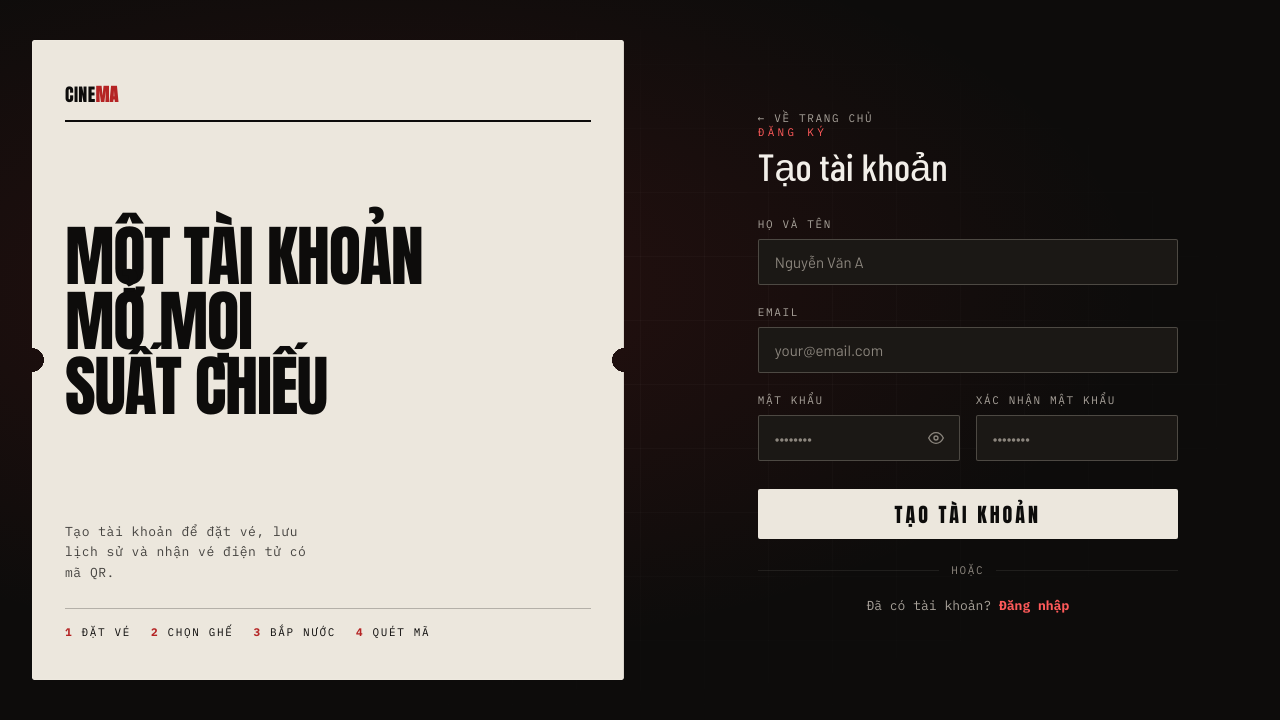
Scenario: Register › mật khẩu dưới 6 ký tự thì báo lỗi, không gọi API
This screenshot has width=1280, height=720.
expect the button "Tạo tài khoản" is shown: met, box [758,489,1178,539]
Type "Người Mới" into the field labelled "Họ và tên" at (968, 262), box [758,239,1178,285]
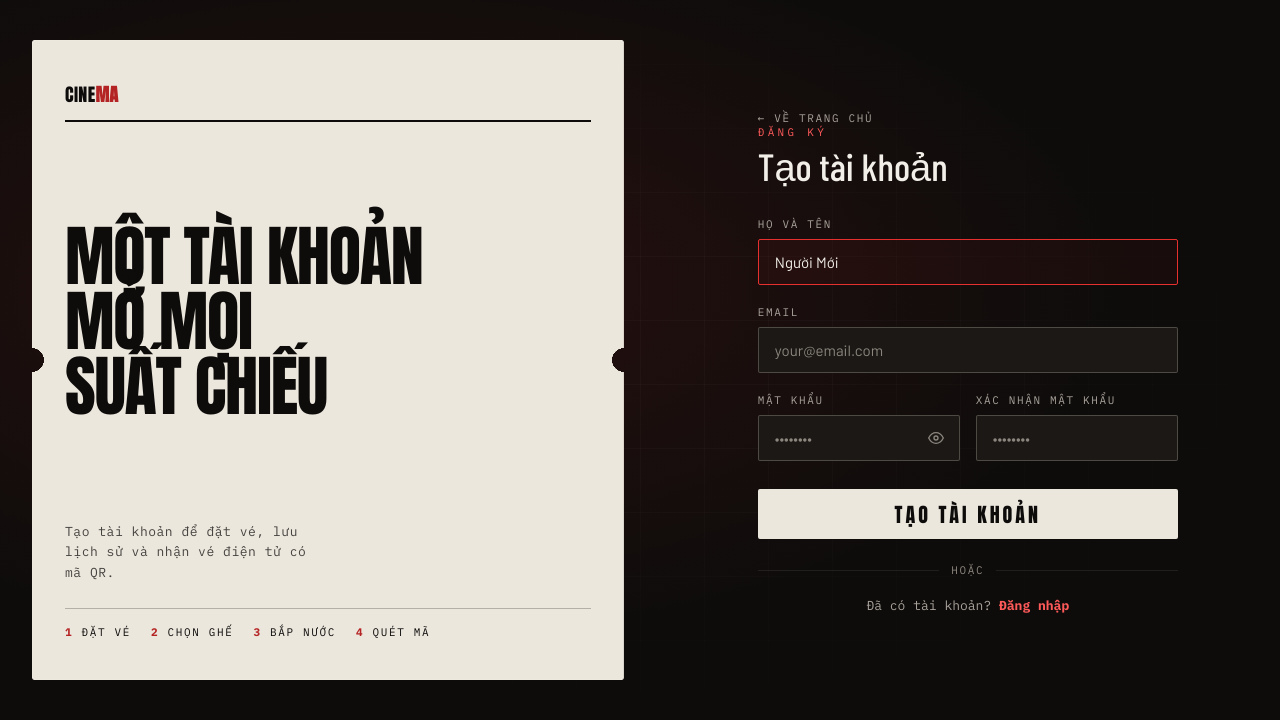
Type "moi@cinema.vn" into the field labelled "Email" at (968, 350), box [758,327,1178,373]
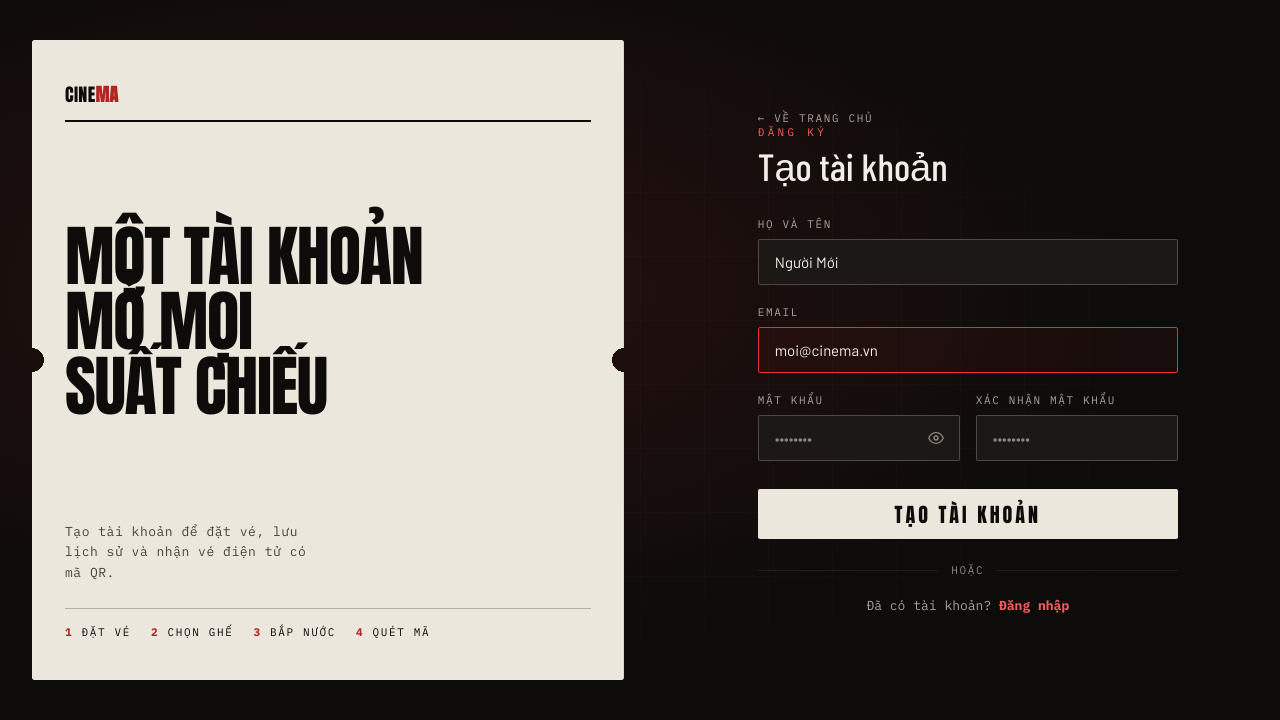
Type "123" into the password field labelled "Mật khẩu" at (859, 438), box [758,415,960,461]
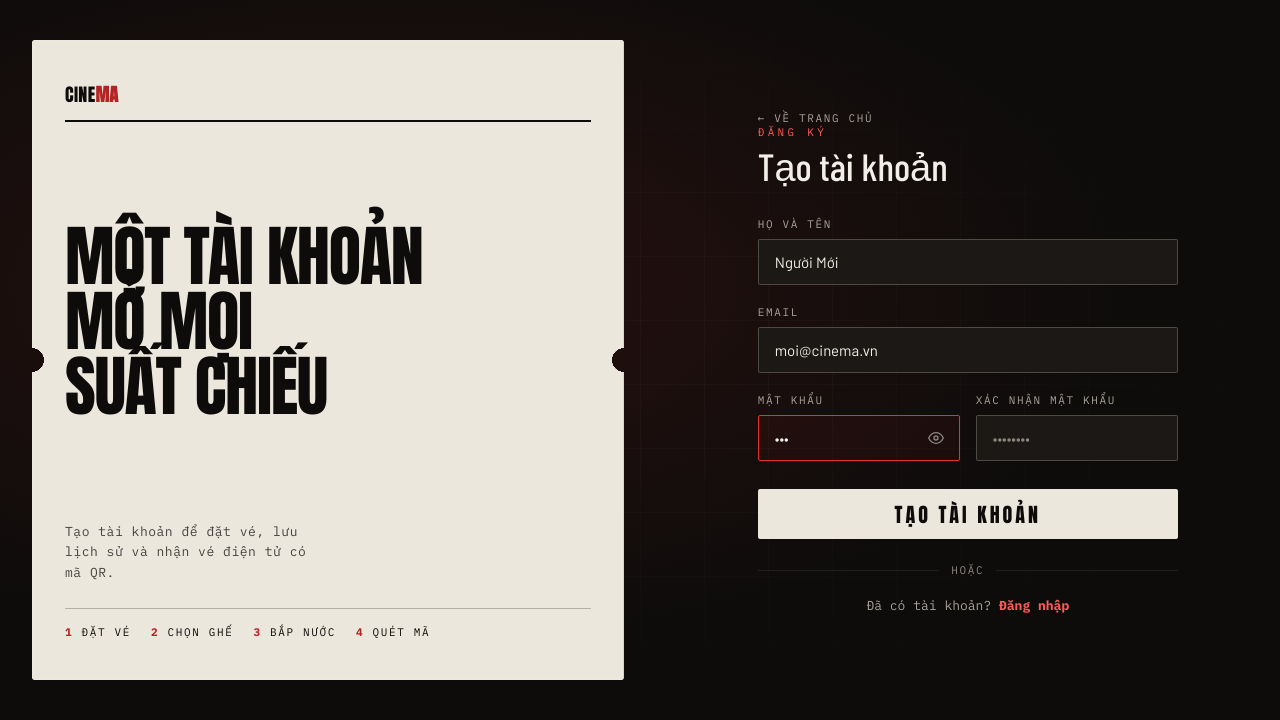
Type "123" into the password field labelled "Xác nhận mật khẩu" at (1077, 438), box [976,415,1178,461]
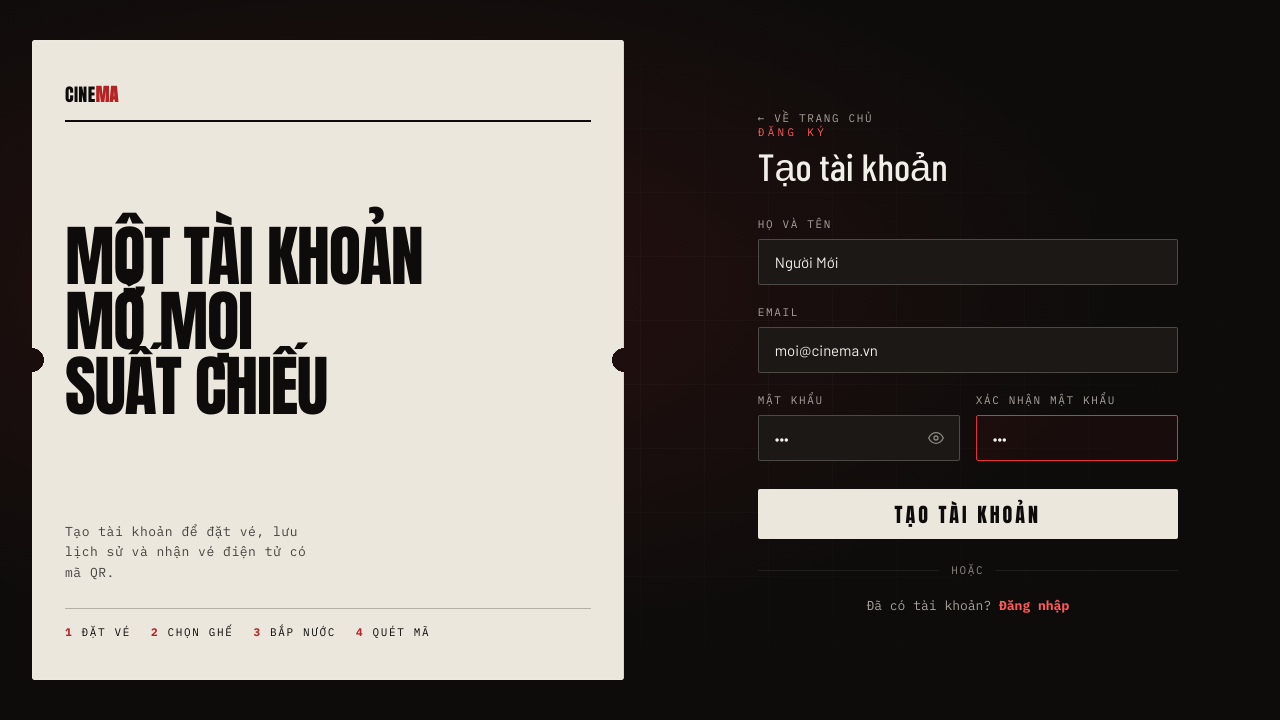
Click the button "Tạo tài khoản" at (968, 514), box [758,489,1178,539]
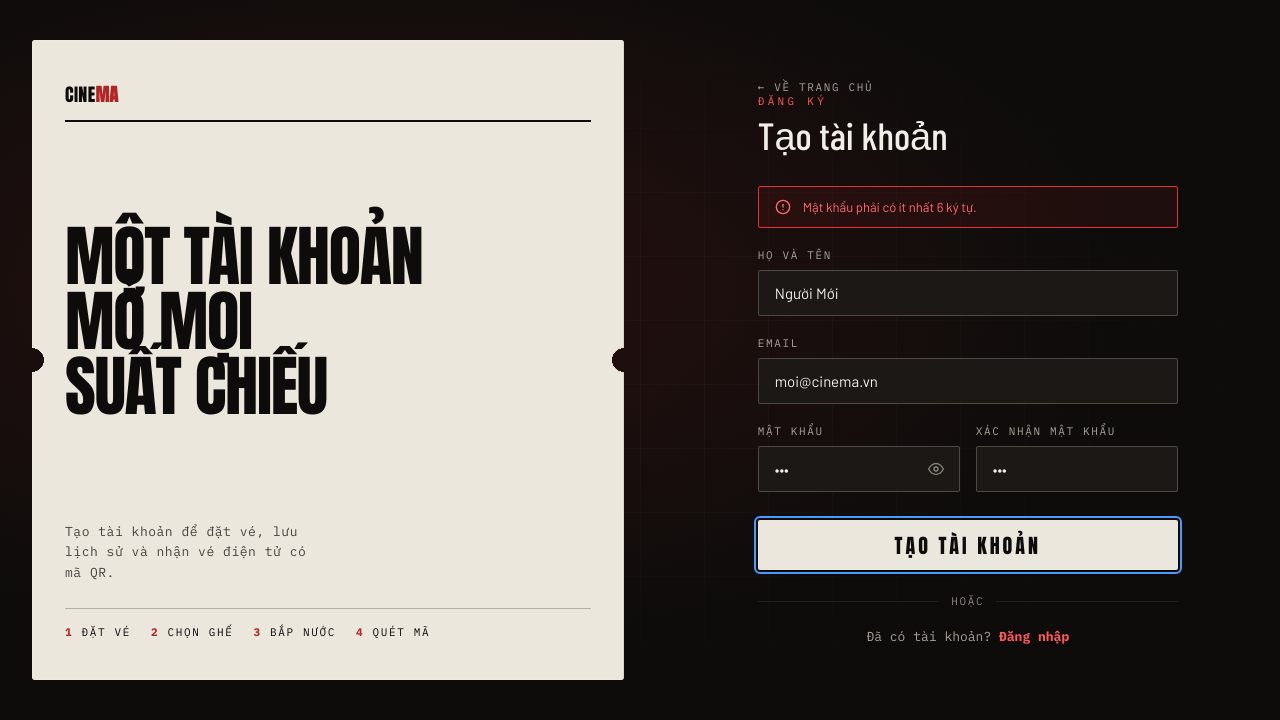
expect the text "Mật khẩu phải có ít nhất 6 ký tự." is shown: met, box [758,186,1178,228]
